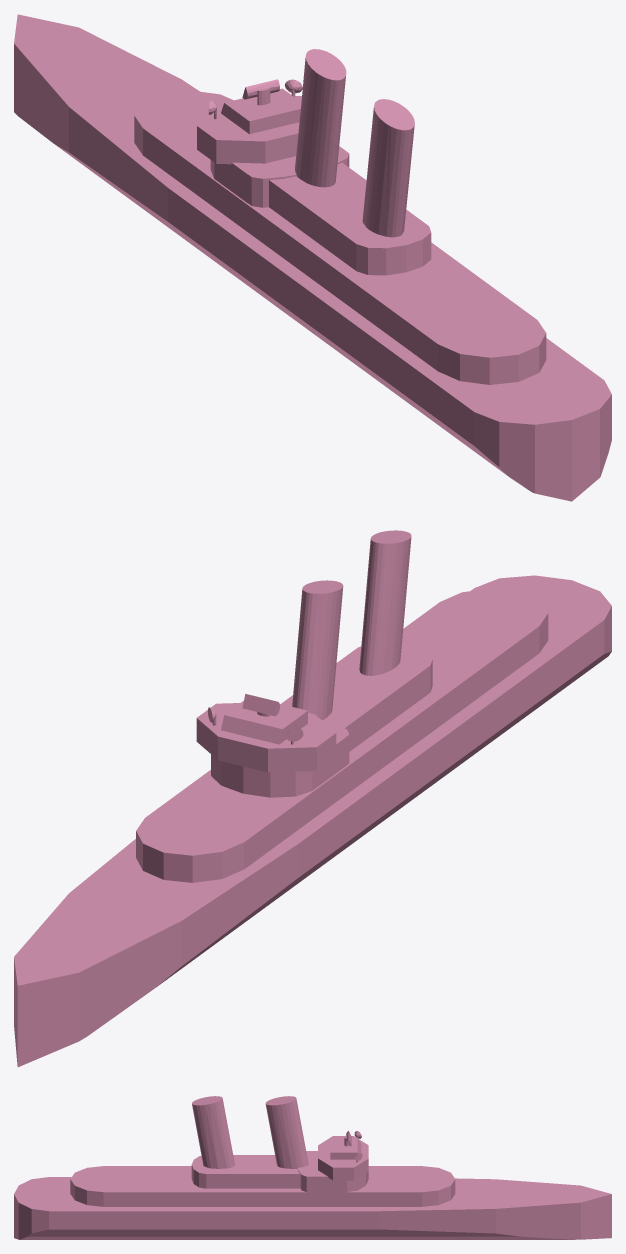
File: blenderhull.glb
The picture shows the model from 3 angles, top to bottom: view 1: azimuth 30°, elevation 25°; view 2: azimuth 150°, elevation 25°; view 3: azimuth 270°, elevation 25°; orthographic projection. The views are drawn at different scales.
Parts seen in each view (by area): view 1: Mesh_Mesh_head_geo.001_lambert2SG.001; view 2: Mesh_Mesh_head_geo.001_lambert2SG.001; view 3: Mesh_Mesh_head_geo.001_lambert2SG.001.
Boxes of the visible parts, x1,y1,x2,y2 form: Mesh_Mesh_head_geo.001_lambert2SG.001: (14,14,611,501); Mesh_Mesh_head_geo.001_lambert2SG.001: (14,530,611,1067); Mesh_Mesh_head_geo.001_lambert2SG.001: (14,1096,611,1239).
Bounding box in the file's own units: 20 × 38.24 × 148.
